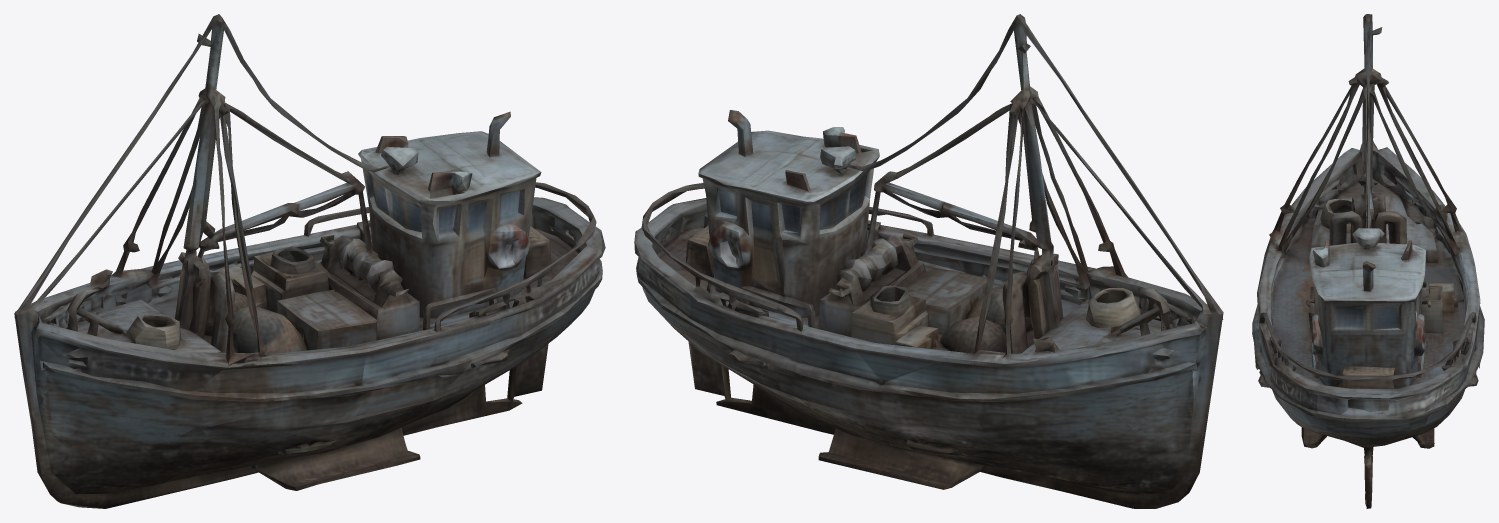
The model's file is lm_boat.glb.
3 views of the same model, side by side, from view 1: azimuth 30°, elevation 25°; view 2: azimuth 150°, elevation 25°; view 3: azimuth 270°, elevation 25° (orthographic). The views are drawn at different scales.
Visible parts, largest first — view 1: world; view 2: world; view 3: world.
Boxes of the visible parts, box(x1,y1,x2,y2) form: world: box(14, 14, 605, 508); world: box(634, 14, 1223, 508); world: box(1252, 14, 1484, 508).
Size of the model in its own units: 20.57 by 16 by 8.96.
Materials: 1 (1 with a texture image).
